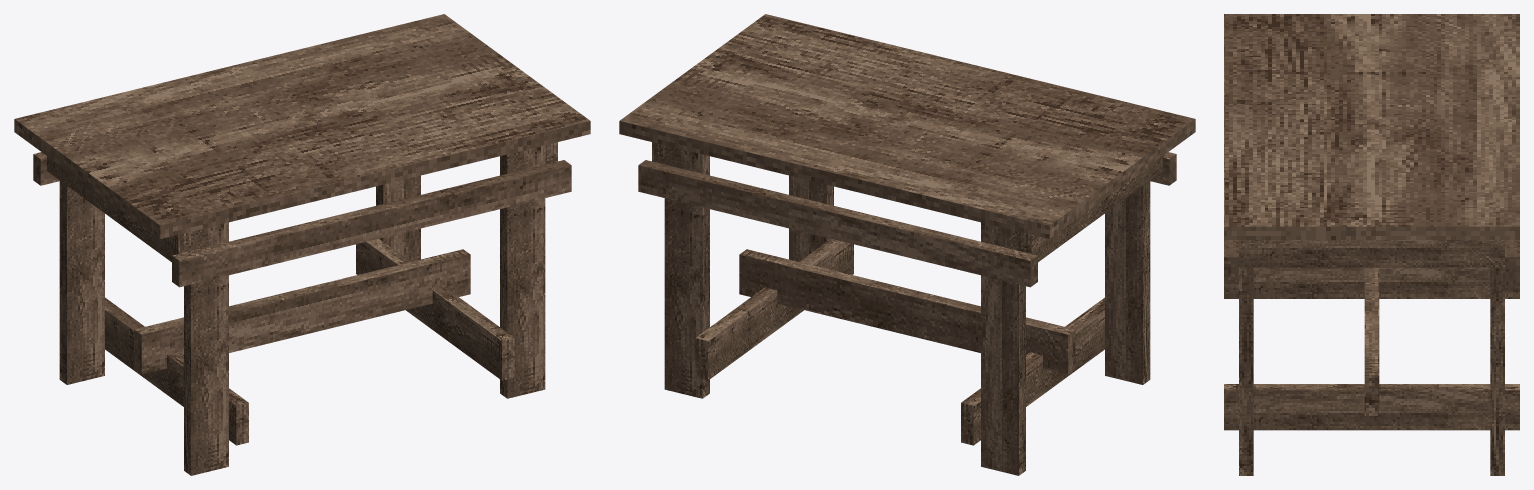
The model's file is table.glb.
3 renders of one model, left to right at view 1: azimuth 30°, elevation 25°; view 2: azimuth 150°, elevation 25°; view 3: azimuth 270°, elevation 25°, orthographic.
Parts seen in each view (by area): view 1: wood_table02; view 2: wood_table02; view 3: wood_table02.
Part boxes in pixels (x1=…): wood_table02: x1=14, y1=14, x2=590, y2=475; wood_table02: x1=619, y1=14, x2=1195, y2=475; wood_table02: x1=1224, y1=14, x2=1519, y2=475.
Size of the model in its own units: 2.75 by 1.62 by 1.62.
Materials: 1 (1 with a texture image).
